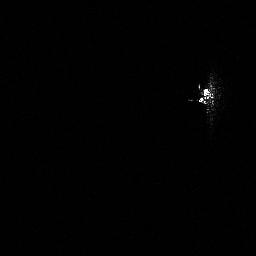ship: (185, 70, 223, 122)
